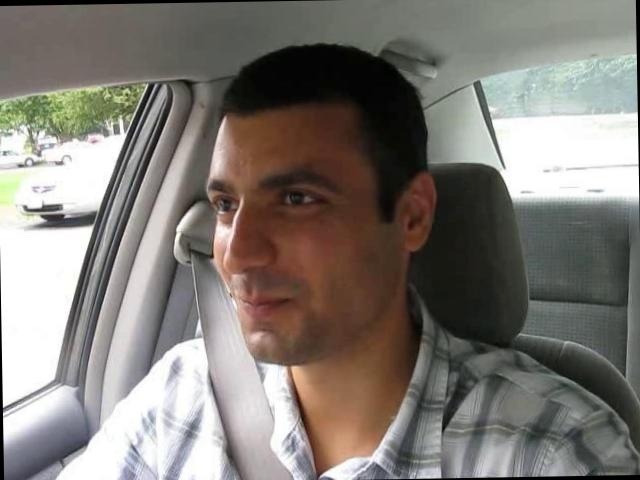eye_open: (266, 183, 333, 215), (214, 194, 240, 214)
face: (200, 149, 377, 367)
